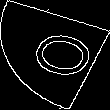O_E: (14, 25, 96, 85)
